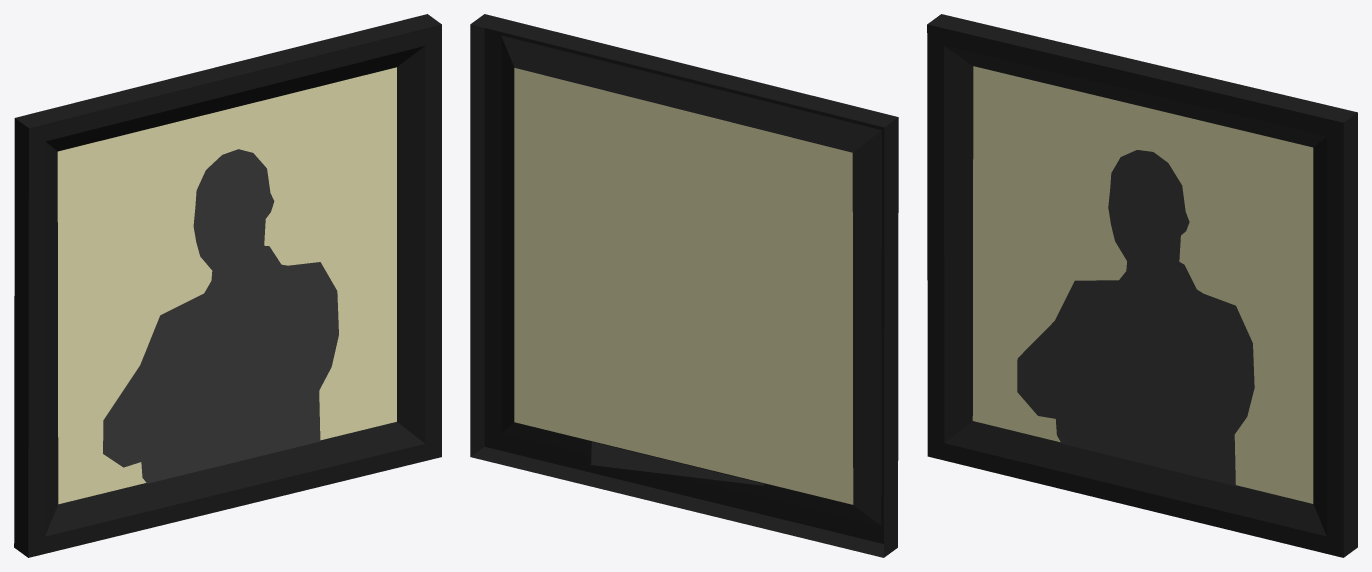
Rendered from picture_005.glb.
3 renders of one model, left to right at view 1: azimuth 30°, elevation 25°; view 2: azimuth 150°, elevation 25°; view 3: azimuth 330°, elevation 25°, orthographic.
Visible parts, largest first — view 1: picture_005; view 2: picture_005; view 3: picture_005.
Boxes of the visible parts, box(x1,y1,x2,y2) form: picture_005: box(14, 14, 441, 557); picture_005: box(470, 14, 898, 557); picture_005: box(927, 14, 1357, 557).
Bounding box in the file's own units: 1.26 × 1.26 × 0.0778.
1 material, 1 textured.
